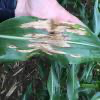Corn leaf blight: (2, 15, 98, 66)
